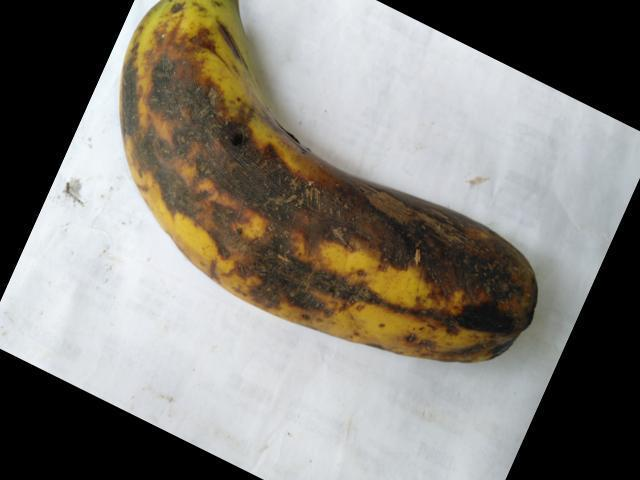rotten: (92, 0, 553, 379)
